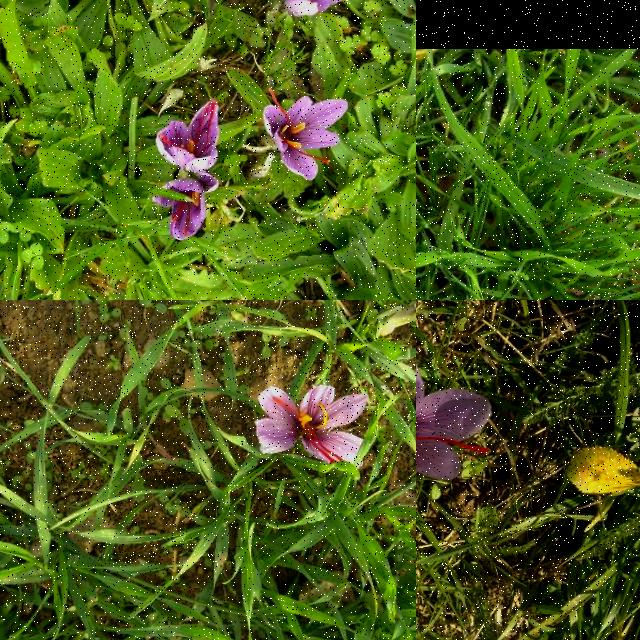flower: (416, 359, 493, 523), (254, 386, 368, 464), (264, 88, 348, 182), (156, 100, 220, 172), (153, 173, 220, 241), (283, 0, 356, 16)
